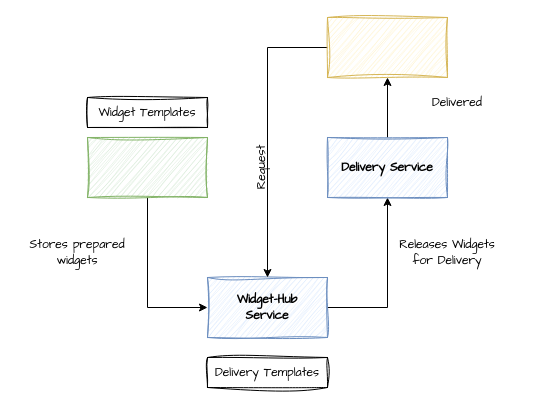
Image size: 534x405. Some labels were removed from this diagram. The shapes that lost their labels are listed below. From the top down, each one's centre as x and y in pixels, then its label:
point 387,47: Customer
point 147,167: Widget Service
